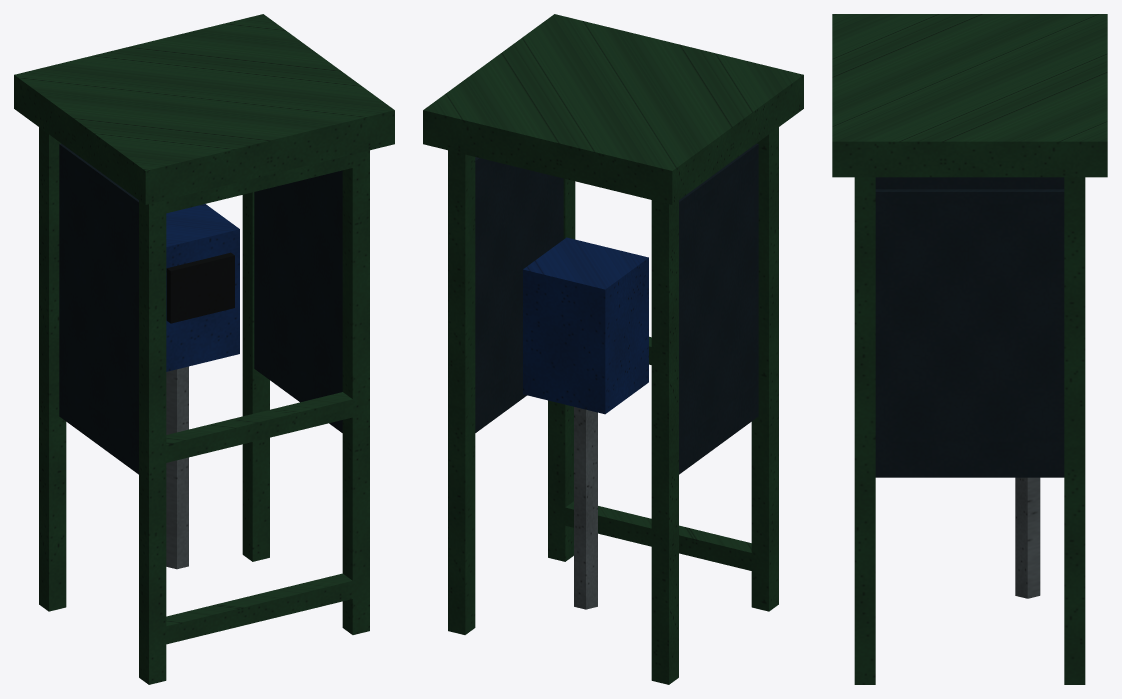
The model's file is PROP-0D93FAFB066D_lod2.glb.
3 renders of one model, left to right at view 1: azimuth 30°, elevation 25°; view 2: azimuth 150°, elevation 25°; view 3: azimuth 270°, elevation 25°, orthographic. The views are drawn at different scales.
Parts seen in each view (by area): view 1: booth_roof.002, booth_posts.002, booth_glazing.002, booth_front_rails.002, cabinet.010, fixture_post.005, recessed_front.010; view 2: booth_roof.002, booth_posts.002, booth_glazing.002, cabinet.010, fixture_post.005, booth_front_rails.002; view 3: booth_glazing.002, booth_roof.002, booth_posts.002, fixture_post.005.
Part boxes in pixels (bbox=[...]): booth_roof.002: bbox=[14, 14, 394, 204]; booth_posts.002: bbox=[39, 127, 369, 684]; booth_glazing.002: bbox=[59, 143, 342, 474]; booth_front_rails.002: bbox=[151, 151, 367, 647]; cabinet.010: bbox=[166, 204, 239, 371]; fixture_post.005: bbox=[166, 366, 188, 569]; recessed_front.010: bbox=[166, 252, 234, 323]; booth_roof.002: bbox=[423, 14, 803, 204]; booth_posts.002: bbox=[448, 127, 778, 684]; booth_glazing.002: bbox=[475, 143, 758, 474]; cabinet.010: bbox=[523, 237, 648, 414]; fixture_post.005: bbox=[574, 407, 597, 609]; booth_front_rails.002: bbox=[556, 136, 766, 574]; booth_glazing.002: bbox=[875, 177, 1064, 477]; booth_roof.002: bbox=[832, 14, 1107, 177]; booth_posts.002: bbox=[854, 177, 1085, 684]; fixture_post.005: bbox=[1015, 477, 1040, 598].
Size of the model in its own units: 1.15 by 2.32 by 1.05.
Materials: 5 (5 with a texture image).
